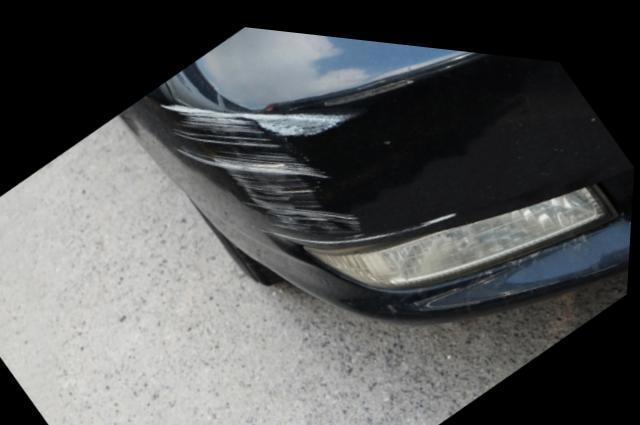rub: (161, 91, 462, 237)
